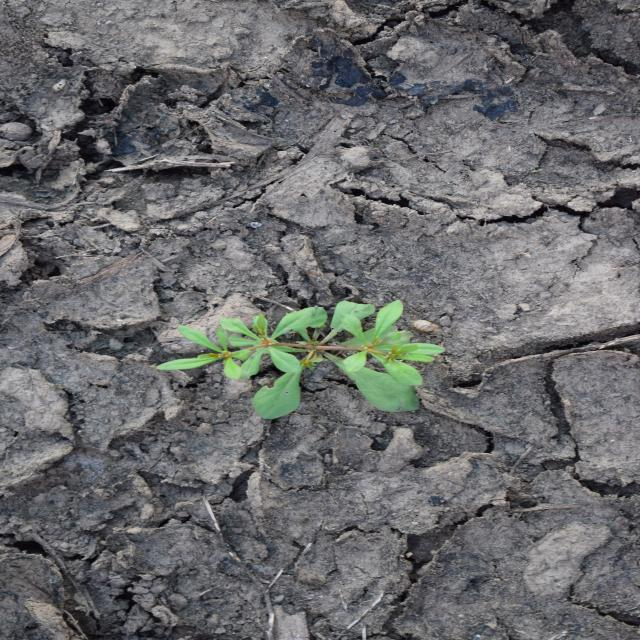Carpetweed: (154, 298, 448, 420)
